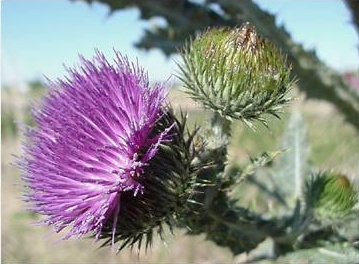thistle: (14, 51, 205, 251)
